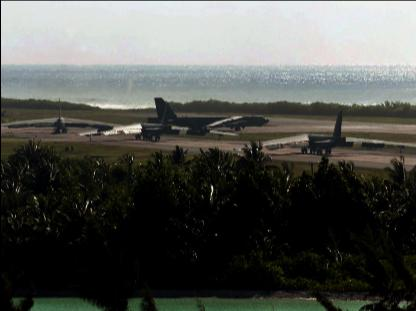B2: (232, 110, 415, 155), (74, 102, 240, 140), (1, 97, 123, 133), (147, 96, 269, 130)
